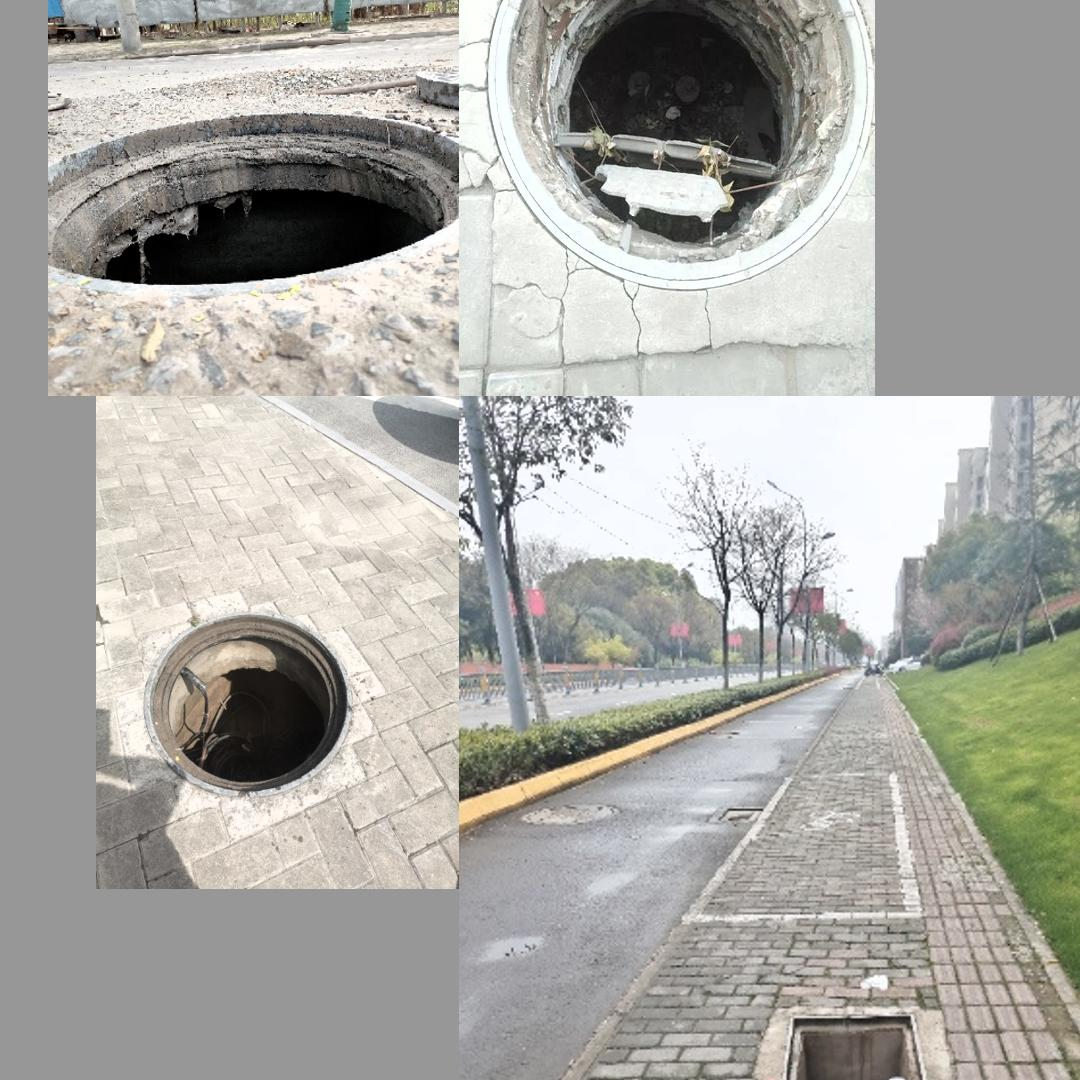lose: (480, 0, 869, 285), (48, 113, 459, 294), (142, 611, 352, 795), (769, 1010, 947, 1080)
